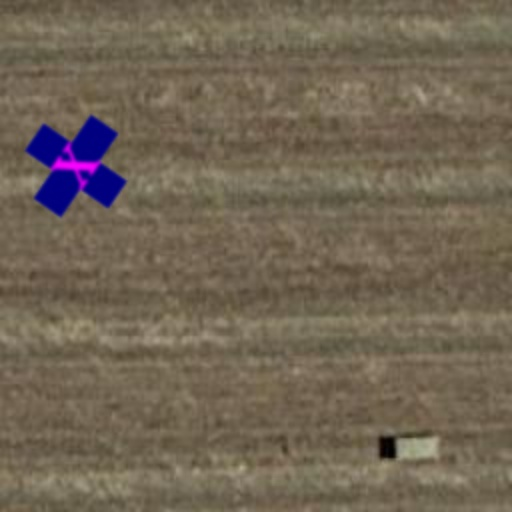cross: (4, 94, 148, 238)
